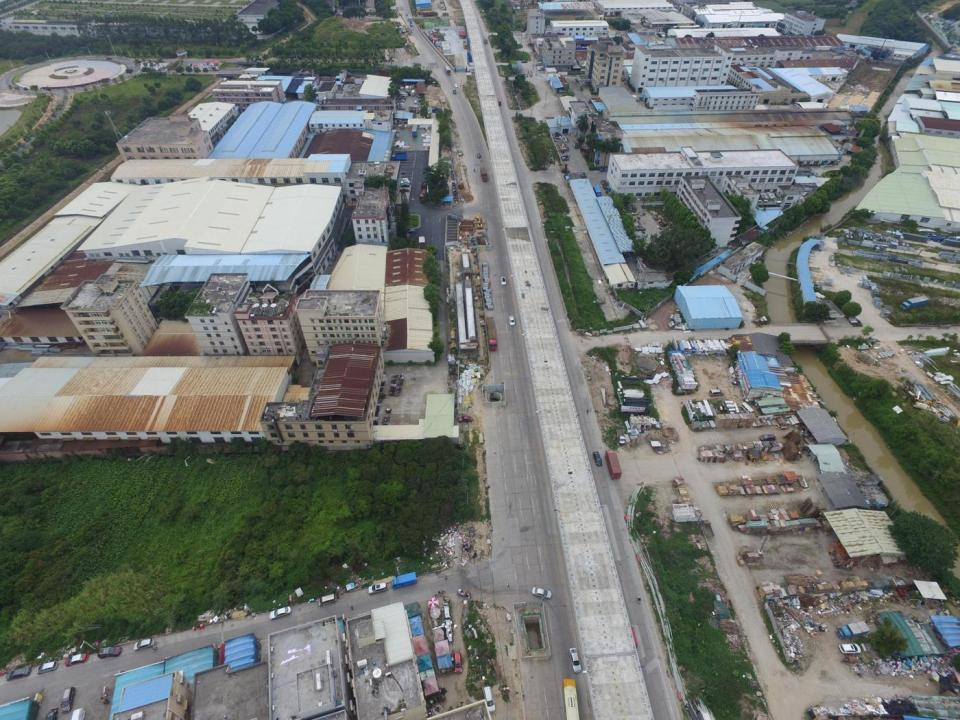bus: (444, 65, 450, 76), (484, 35, 488, 45)
car: (4, 666, 32, 682), (60, 686, 76, 714), (97, 645, 122, 659), (269, 606, 292, 621), (483, 687, 496, 713), (569, 646, 582, 672), (65, 653, 89, 667), (838, 641, 861, 655), (36, 660, 58, 674), (133, 638, 154, 651), (368, 582, 388, 595), (531, 587, 552, 599), (453, 651, 463, 673), (44, 709, 59, 720), (458, 415, 474, 423), (758, 434, 776, 441), (500, 276, 507, 286), (509, 316, 515, 326), (399, 188, 409, 194), (399, 178, 409, 183), (400, 182, 409, 187), (559, 154, 570, 158), (399, 180, 410, 184), (520, 60, 528, 64), (562, 156, 568, 161), (453, 83, 458, 88), (476, 153, 480, 158), (409, 21, 412, 27), (404, 12, 408, 16), (414, 100, 417, 104)
truck: (835, 618, 871, 640), (603, 448, 622, 481), (485, 315, 498, 352), (900, 294, 930, 310), (391, 572, 417, 589), (418, 182, 429, 202), (391, 151, 408, 162), (615, 427, 625, 445), (480, 166, 488, 182), (594, 184, 602, 199), (412, 125, 418, 138), (572, 139, 578, 149), (431, 108, 442, 113), (452, 87, 457, 95), (407, 14, 412, 21)
van: (317, 593, 336, 606), (740, 401, 753, 416), (708, 387, 724, 397), (498, 99, 502, 107)
